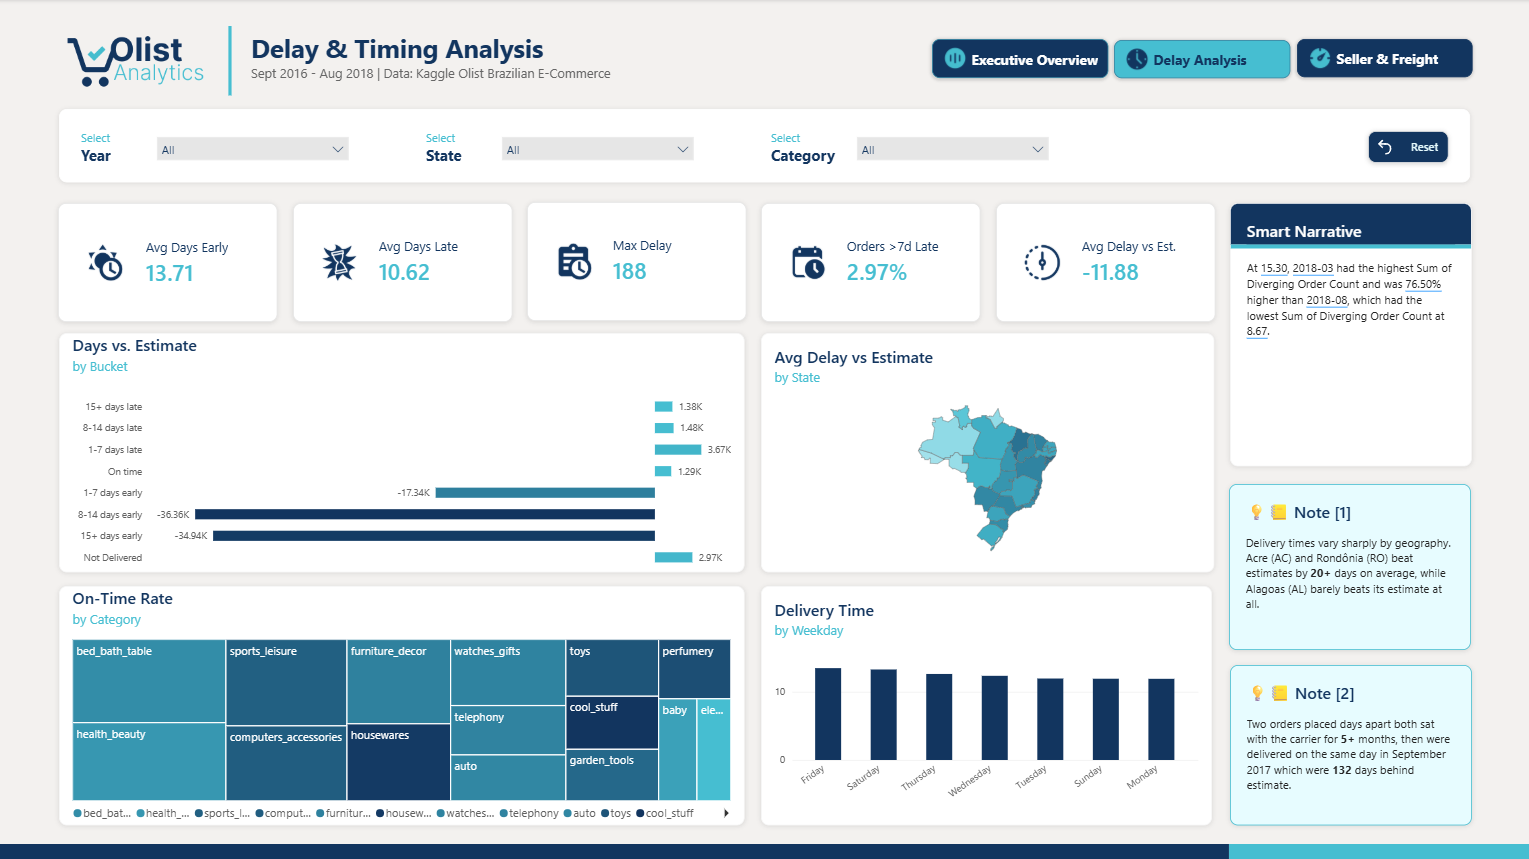

This screenshot's page, from the dashboard's own definition file:
{"tool":"powerbi","page":{"name":"Delay Analysis","canvas":[1920,1080],"ordinal":1},"visuals":[{"type":"textbox","box":[316,39.3,559,88],"z":0,"group":"g2"},{"type":"textbox","box":[102.9,164.2,90,47.1],"z":0,"group":"g3"},{"type":"textbox","box":[534.5,164.2,90,47.1],"z":0,"group":"g4"},{"type":"textbox","box":[967,164.2,90,47.1],"z":0,"group":"g5"},{"type":"shape","box":[661.1,254.4,275,149.4],"z":0,"group":"g8"},{"type":"shape","box":[74.4,255.6,275,149.4],"z":0,"group":"g6"},{"type":"shape","box":[954.4,255.6,275,149.4],"z":0,"group":"g9"},{"type":"shape","box":[1248.6,255.7,275,149.4],"z":0,"group":"g10"},{"type":"shape","box":[368,256,275,149.4],"z":0,"group":"g7"},{"type":"group","id":"g1","title":"Group 4","box":[0,1058.6,1920,21.4],"z":0},{"type":"shape","box":[0,1058.6,1541.4,21.4],"z":0,"group":"g1"},{"type":"group","id":"g2","title":"Group 5","box":[74.3,34.3,800,94.3],"z":1000},{"type":"image","box":[74.3,39.4,190,77.1],"z":1000,"group":"g2"},{"type":"slicer","fields":{"Values":["dim_date.year"]},"box":[192.5,167.8,250,40],"z":1000,"group":"g3"},{"type":"slicer","fields":{"Values":["dim_customer.customer_state"]},"box":[624.9,167.8,250,40],"z":1000,"group":"g4"},{"type":"slicer","fields":{"Values":["dim_product.category_name_en"]},"box":[1070,167.8,250,40],"z":1000,"group":"g5"},{"type":"cardVisual","fields":{"Data":["_Measures.Max Delay"]},"box":[753.1,277.4,181,103],"z":1000,"group":"g8"},{"type":"cardVisual","fields":{"Data":["_Measures.Pct Orders Over 7 Days Late"]},"box":[1046.4,278.6,181,103],"z":1000,"group":"g9"},{"type":"cardVisual","fields":{"Data":["_Measures.Avg Delay vs Estimate"]},"box":[1340.6,278.7,181,103],"z":1000,"group":"g10"},{"type":"cardVisual","fields":{"Data":["_Measures.Avg Days Early"]},"box":[168,279,181,103.1],"z":1000,"group":"g6"},{"type":"cardVisual","fields":{"Data":["_Measures.Avg Days Late"]},"box":[460,279,181,103],"z":1000,"group":"g7"},{"type":"shape","box":[1541.4,1058.6,378.6,21.4],"z":1000,"group":"g1"},{"type":"shape","box":[279.3,34.3,20,87.3],"z":2000,"group":"g2"},{"type":"shape","box":[75,138.3,1768.3,91.7],"z":2000},{"type":"image","box":[693.6,304.4,50.6,49.4],"z":2000,"group":"g8"},{"type":"image","box":[106.9,305.6,50.6,49.4],"z":2000,"group":"g6"},{"type":"image","box":[986.9,305.6,50.6,49.4],"z":2000,"group":"g9"},{"type":"image","box":[1281.1,305.7,50.6,49.4],"z":2000,"group":"g10"},{"type":"image","box":[400.5,306,50.6,49.4],"z":2000,"group":"g7"},{"type":"group","id":"g3","title":"Group 1","box":[102.9,164.2,339.6,47.1],"z":3000},{"type":"group","id":"g4","title":"Group 2","box":[534.5,164.2,340.4,47.1],"z":4000},{"type":"group","id":"g5","title":"Group 3","box":[967,164.2,353,47.1],"z":5000},{"type":"barChart","title":"Days vs. Estimate","fields":{"Category":["fact_deliveries.Delay Bucket"],"Y":["_Measures.Diverging Order Count"]},"box":[75,418.8,858.8,300],"z":6000},{"type":"shapeMap","title":"Avg Delay vs Estimate","fields":{"Category":["dim_customer.customer_state"],"Value":["_Measures.Avg Delay vs Estimate"]},"box":[955,418.8,567.5,300],"z":7000},{"type":"textbox","title":"💡📒  Note [1]","box":[1541.1,607.8,303.3,207.8],"z":8000},{"type":"actionButton","box":[1169,50.1,220.5,48.9],"z":10000},{"type":"actionButton","box":[1397.3,51.4,220.5,47.6],"z":11000},{"type":"actionButton","box":[1625.7,50,220,48],"z":12000},{"type":"group","id":"g6","title":"Group 6","box":[74.4,255.6,275,149.4],"z":13000},{"type":"group","id":"g7","title":"Group 6","box":[368,256,275,149.4],"z":14000},{"type":"group","id":"g8","title":"Group 6","box":[661.1,254.4,275.6,150],"z":15000},{"type":"group","id":"g9","title":"Group 6","box":[954.4,255.6,275.6,150],"z":16000},{"type":"group","id":"g10","title":"Group 6","box":[1248.6,255.7,275.7,150],"z":17000},{"type":"textbox","title":"💡📒  Note [2]","box":[1542.2,834.4,303.3,201.1],"z":18000},{"type":"actionButton","box":[1715,165,101.2,40],"z":19000},{"type":"treemap","title":"On-Time Rate","fields":{"Group":["dim_product.category_name_en"],"Values":["_Measures.Category Order Count"]},"box":[75,735,858.8,300],"z":20000},{"type":"columnChart","title":"Delivery Time","fields":{"Category":["dim_date.day_name"],"Y":["_Measures.Avg Delivery Days (Purchase Date)"]},"box":[955,735,565,300],"z":21000},{"type":"textbox","title":"Smart Narrative","box":[1542.9,255.7,302.9,330],"z":22000}]}

Visuals, with their boxes in screenshot pixels (x1, y1, x2, y2), scaled from the page's 1920x1080 canvas onto the 1529x859 screenshot:
textbox: x1=252, y1=31, x2=697, y2=101
textbox: x1=82, y1=131, x2=154, y2=168
textbox: x1=426, y1=131, x2=497, y2=168
textbox: x1=770, y1=131, x2=842, y2=168
shape: x1=526, y1=202, x2=745, y2=321
shape: x1=59, y1=203, x2=278, y2=322
shape: x1=760, y1=203, x2=979, y2=322
shape: x1=994, y1=203, x2=1213, y2=322
shape: x1=293, y1=204, x2=512, y2=322
"Group 4" group: x1=0, y1=842, x2=1528, y2=858
shape: x1=0, y1=842, x2=1228, y2=858
"Group 5" group: x1=59, y1=27, x2=696, y2=102
image: x1=59, y1=31, x2=210, y2=93
slicer - dim_date.year: x1=153, y1=133, x2=352, y2=165
slicer - dim_customer.customer_state: x1=498, y1=133, x2=697, y2=165
slicer - dim_product.category_name_en: x1=852, y1=133, x2=1051, y2=165
cardVisual - _Measures.Max Delay: x1=600, y1=221, x2=744, y2=303
cardVisual - _Measures.Pct Orders Over 7 Days Late: x1=833, y1=222, x2=977, y2=304
cardVisual - _Measures.Avg Delay vs Estimate: x1=1068, y1=222, x2=1212, y2=304
cardVisual - _Measures.Avg Days Early: x1=134, y1=222, x2=278, y2=304
cardVisual - _Measures.Avg Days Late: x1=366, y1=222, x2=510, y2=304
shape: x1=1228, y1=842, x2=1528, y2=858
shape: x1=222, y1=27, x2=238, y2=97
shape: x1=60, y1=110, x2=1468, y2=183
image: x1=552, y1=242, x2=593, y2=281
image: x1=85, y1=243, x2=125, y2=282
image: x1=786, y1=243, x2=826, y2=282
image: x1=1020, y1=243, x2=1061, y2=282
image: x1=319, y1=243, x2=359, y2=283
"Group 1" group: x1=82, y1=131, x2=352, y2=168
"Group 2" group: x1=426, y1=131, x2=697, y2=168
"Group 3" group: x1=770, y1=131, x2=1051, y2=168
"Days vs. Estimate" barChart: x1=60, y1=333, x2=744, y2=572
"Avg Delay vs Estimate" shapeMap: x1=761, y1=333, x2=1212, y2=572
"💡📒  Note [1]" textbox: x1=1227, y1=483, x2=1469, y2=649
actionButton: x1=931, y1=40, x2=1107, y2=79
actionButton: x1=1113, y1=41, x2=1288, y2=79
actionButton: x1=1295, y1=40, x2=1470, y2=78
"Group 6" group: x1=59, y1=203, x2=278, y2=322
"Group 6" group: x1=293, y1=204, x2=512, y2=322
"Group 6" group: x1=526, y1=202, x2=746, y2=322
"Group 6" group: x1=760, y1=203, x2=980, y2=323
"Group 6" group: x1=994, y1=203, x2=1214, y2=323
"💡📒  Note [2]" textbox: x1=1228, y1=664, x2=1470, y2=824
actionButton: x1=1366, y1=131, x2=1446, y2=163
"On-Time Rate" treemap: x1=60, y1=585, x2=744, y2=823
"Delivery Time" columnChart: x1=761, y1=585, x2=1210, y2=823
"Smart Narrative" textbox: x1=1229, y1=203, x2=1470, y2=466
